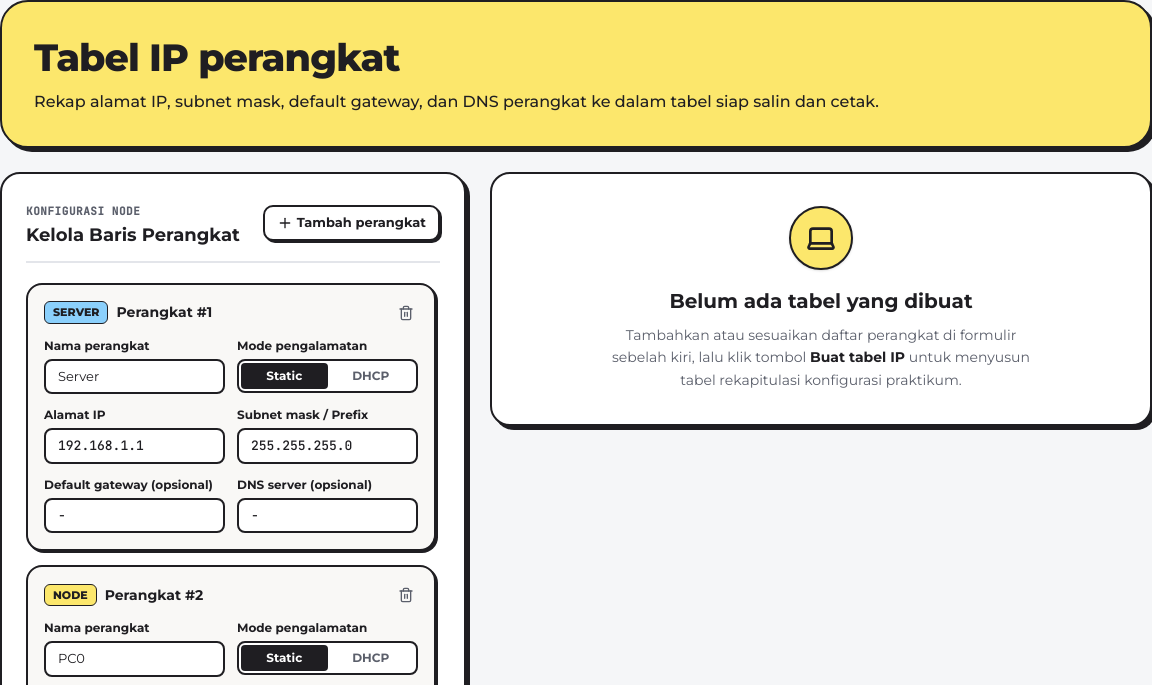
Test case: Halaman TabelIp › dapat menambah dan menghapus baris perangkat
This screenshot has width=1152, height=685.
expect the text "Perangkat #1" is shown: met, box [116,302,212,323]
expect the text "Perangkat #2" is shown: met, box [105,584,203,606]
Tambah 1 baris
Click the button "Tambah perangkat" at [351, 223], box [263,205,440,241]
(page scrolled)
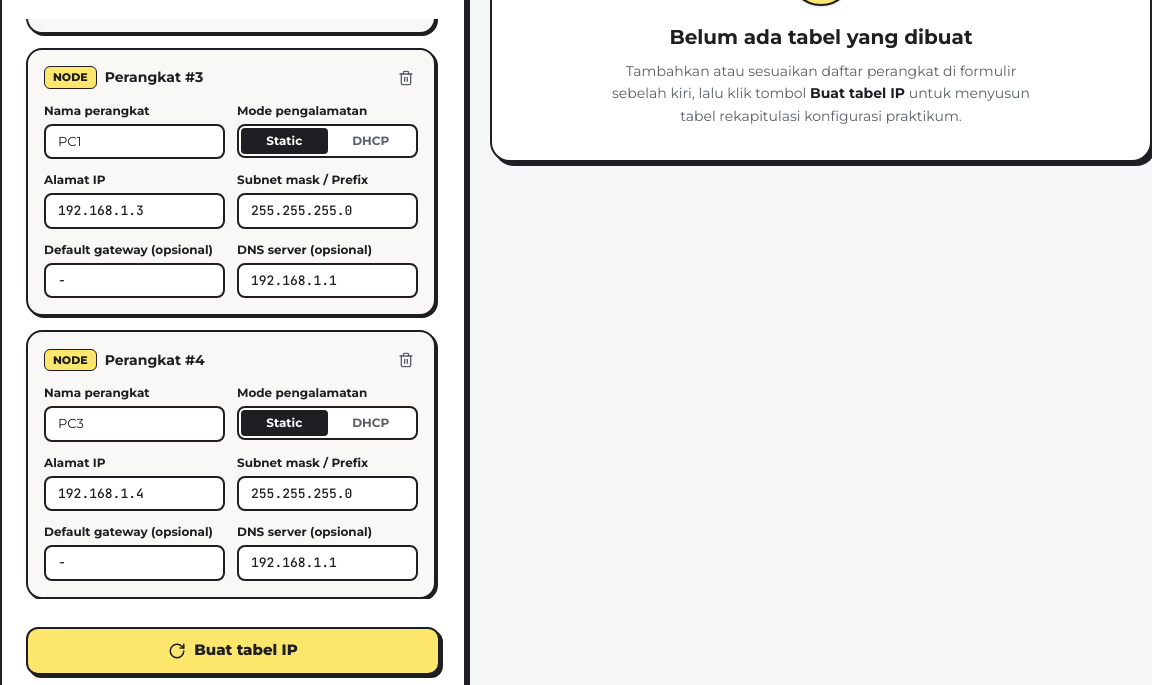
expect the text "Perangkat #4" is shown: met, box [105,350,205,370]
Click the button titled "Hapus Perangkat" at [406, 360], box [394,348,418,372]
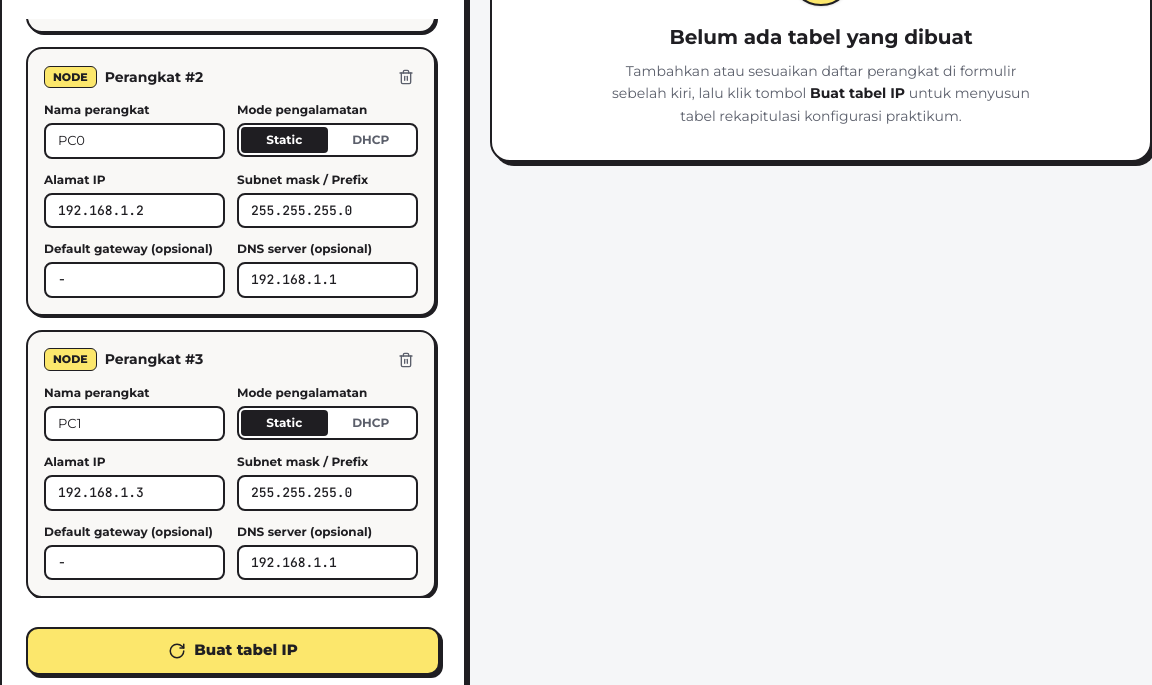
expect the text "Perangkat #4" is gone: met
